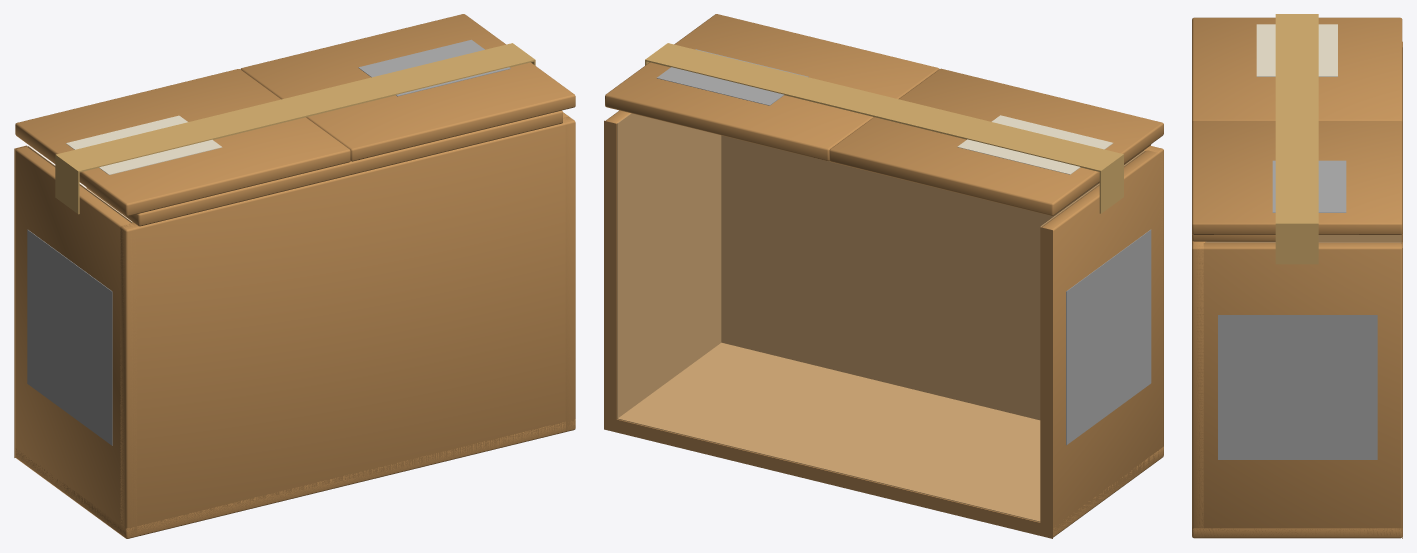
3 renders of one model, left to right at view 1: azimuth 30°, elevation 25°; view 2: azimuth 150°, elevation 25°; view 3: azimuth 270°, elevation 25°, orthographic. The views are drawn at different scales.
Parts seen in each view (by area): view 1: box_3x2, FlapR, FlapL, Tape, FlapB; view 2: box_3x2, FlapR, FlapL, Tape; view 3: box_3x2, FlapL, FlapR, Tape, FlapB.
Boxes of the visible parts, x1,y1,x2,y2 form: box_3x2: [14, 112, 575, 538]; FlapR: [15, 69, 350, 216]; FlapL: [240, 14, 575, 161]; Tape: [55, 43, 535, 214]; FlapB: [86, 110, 562, 226]; box_3x2: [604, 110, 1163, 538]; FlapR: [829, 68, 1163, 215]; FlapL: [605, 14, 939, 161]; Tape: [645, 43, 1123, 213]; box_3x2: [1192, 41, 1402, 538]; FlapL: [1192, 121, 1402, 234]; FlapR: [1192, 17, 1402, 122]; Tape: [1275, 14, 1318, 264]; FlapB: [1192, 233, 1275, 241].
Bounding box in the file's own units: 0.807 × 0.5685 × 0.3428.
